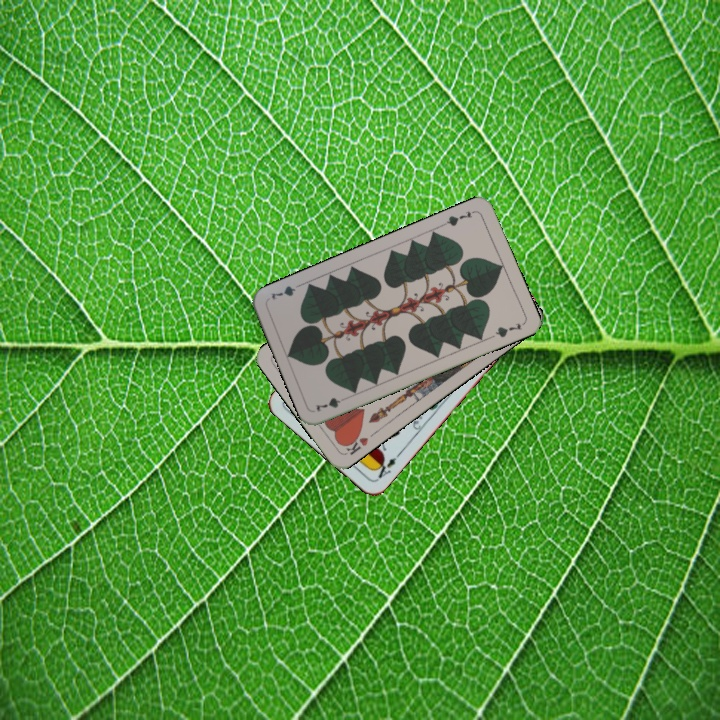EA: (370, 449, 403, 483)
G7: (311, 392, 351, 414), (439, 206, 477, 229)
HK: (339, 429, 371, 457)
